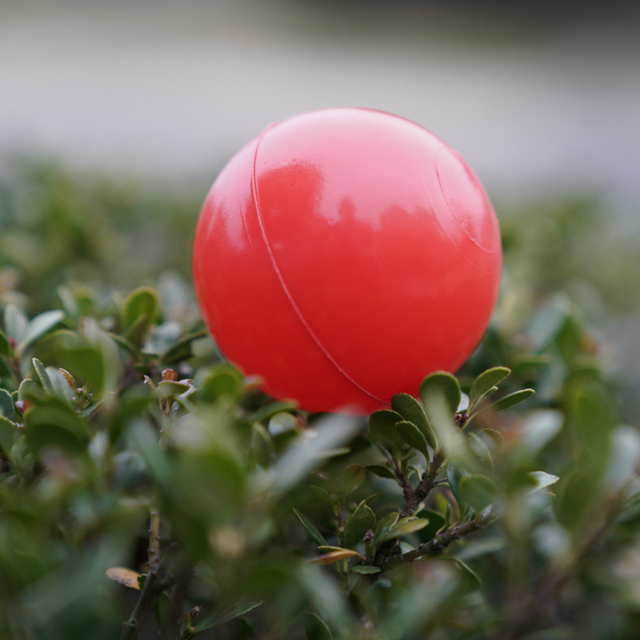Ball: (197, 108, 506, 416)
